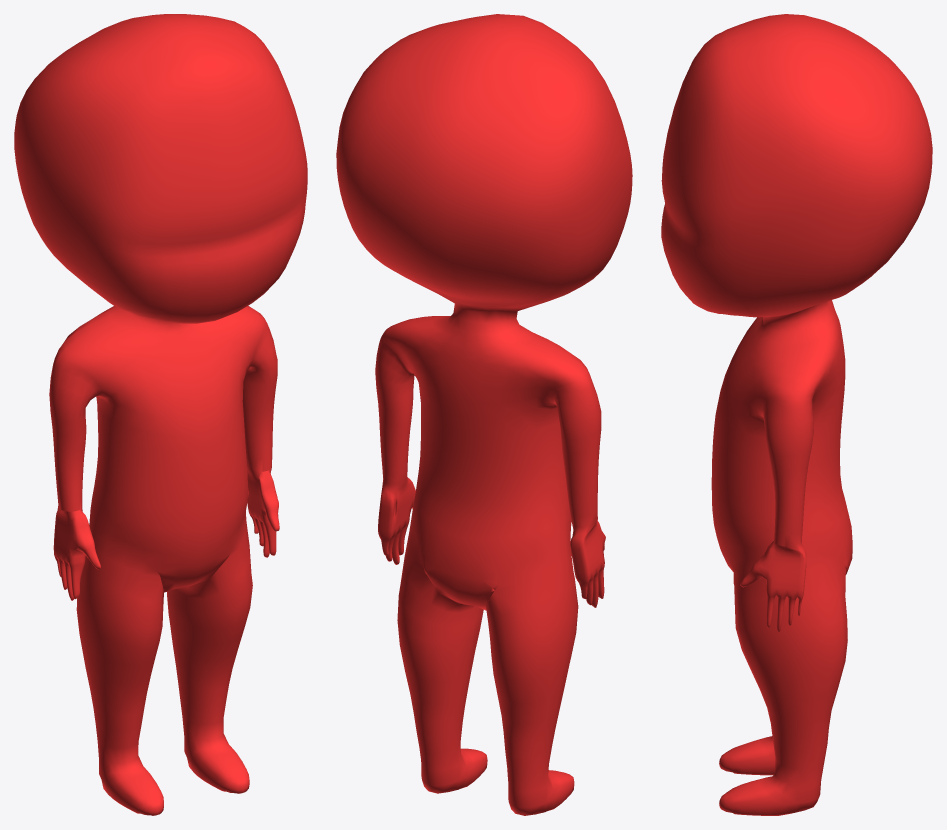
The model's file is Human_2-0.fbx.
3 renders of one model, left to right at view 1: azimuth 30°, elevation 25°; view 2: azimuth 150°, elevation 25°; view 3: azimuth 270°, elevation 25°, orthographic.
Visible parts, largest first — view 1: Cylinder003; view 2: Cylinder003; view 3: Cylinder003.
Part boxes in pixels (x1=…): Cylinder003: x1=14, y1=14, x2=307, y2=815; Cylinder003: x1=336, y1=14, x2=632, y2=815; Cylinder003: x1=661, y1=14, x2=932, y2=815.
Size of the model in its own units: 25.89 by 77.42 by 25.04.
